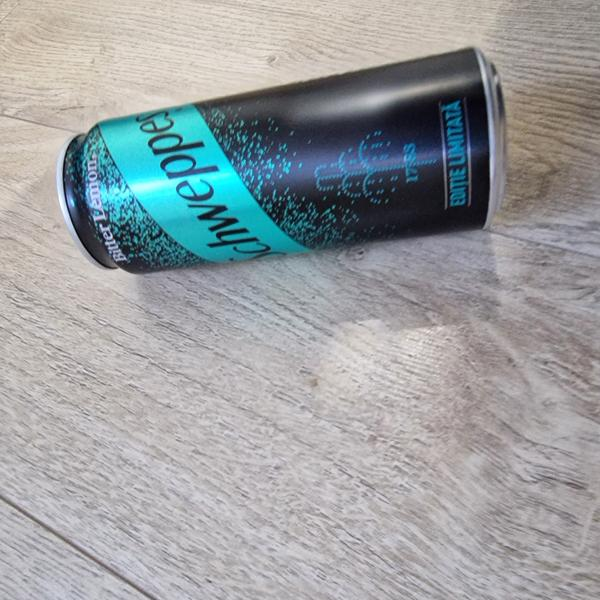can: (45, 41, 526, 297)
